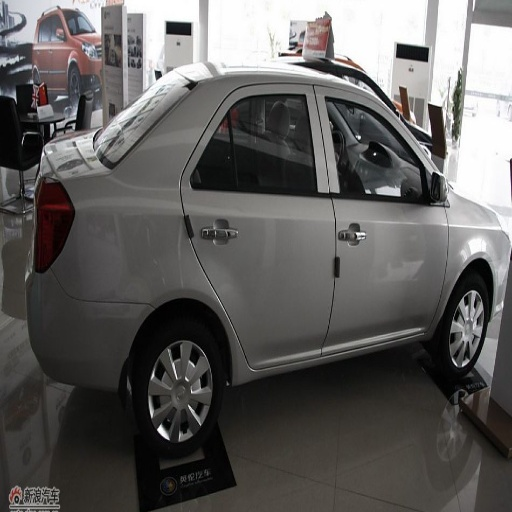back_bumper: (24, 273, 145, 422)
back_right_door: (183, 81, 334, 369)
